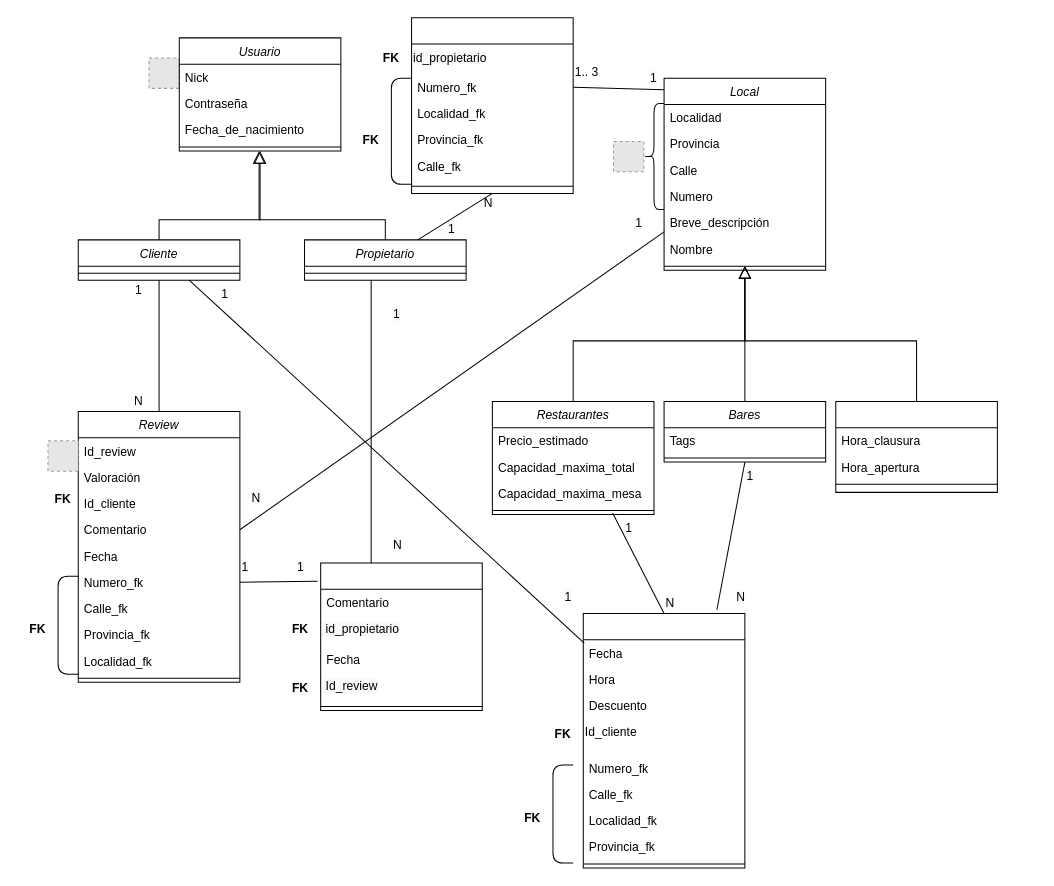
Some shapes in this 1054 by 886 pixel diagram are drawn without their labels. Grey dashed boxes stand in for pictures. Here are the shapes that lost their labels. From the top down, the box of each, then its label:
(411, 17, 573, 193): Propietario_Local
(835, 400, 997, 492): Pubs
(320, 562, 482, 711): Contestación
(582, 613, 745, 868): Reserva
